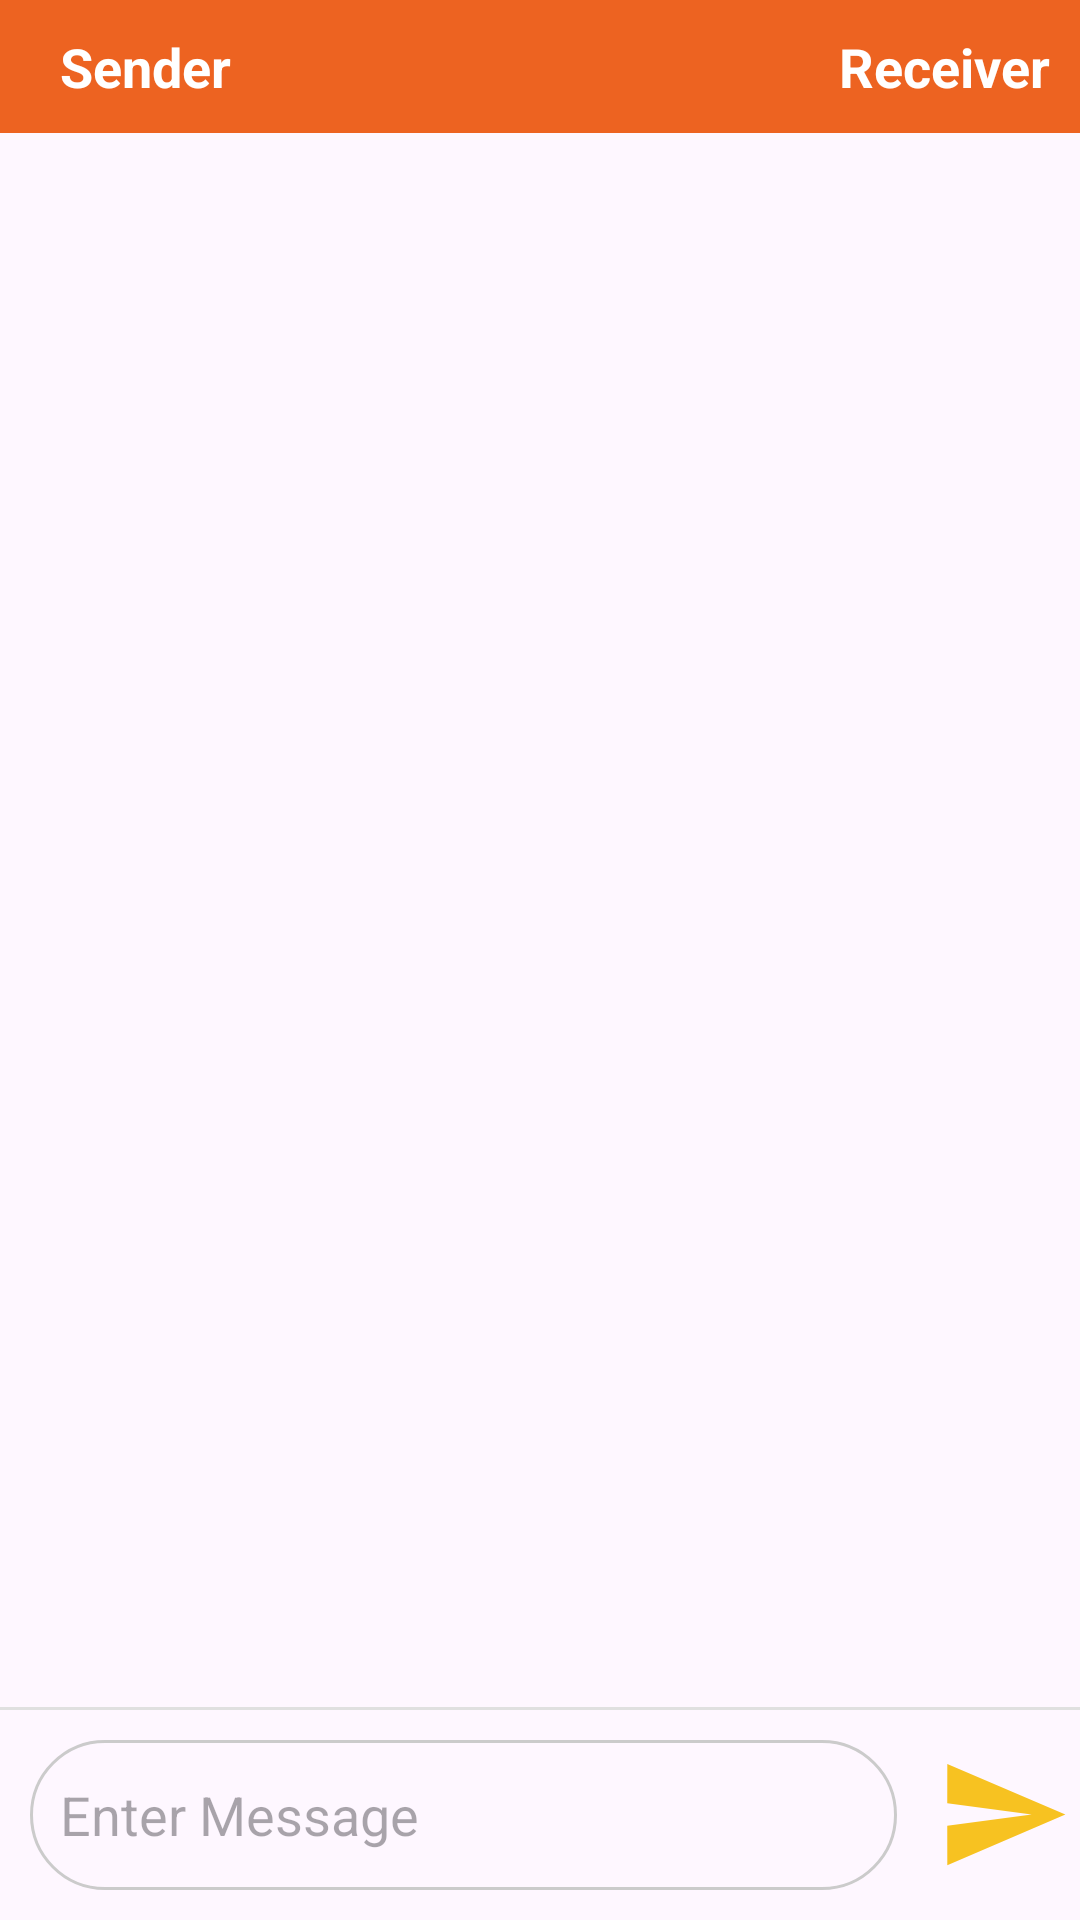

Icon bounding boxes for this 1080px×1920px phone screenshot, format (x1, y1, x2, y2):
send: (947, 1764, 1065, 1865)
